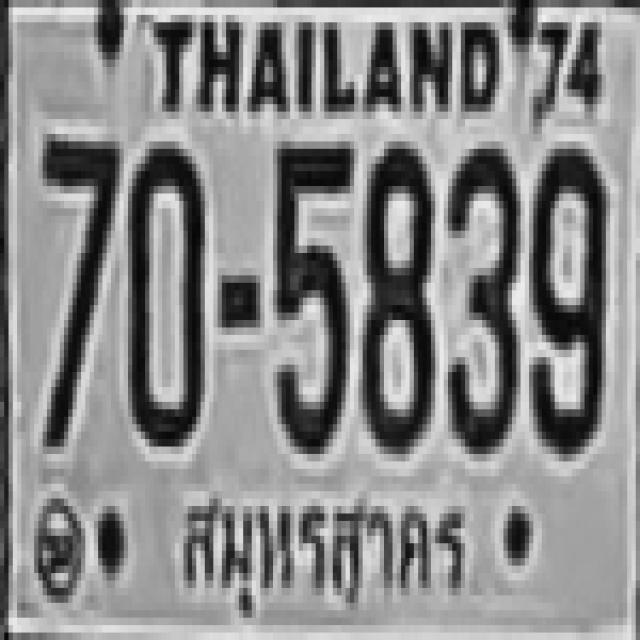0: (124, 138, 200, 442)
3: (444, 142, 516, 446)
5: (273, 142, 350, 446)
7: (38, 134, 116, 439), (38, 130, 116, 406)
8: (358, 142, 431, 446)
9: (529, 142, 602, 446)
SamutSakhon: (172, 480, 471, 608)
